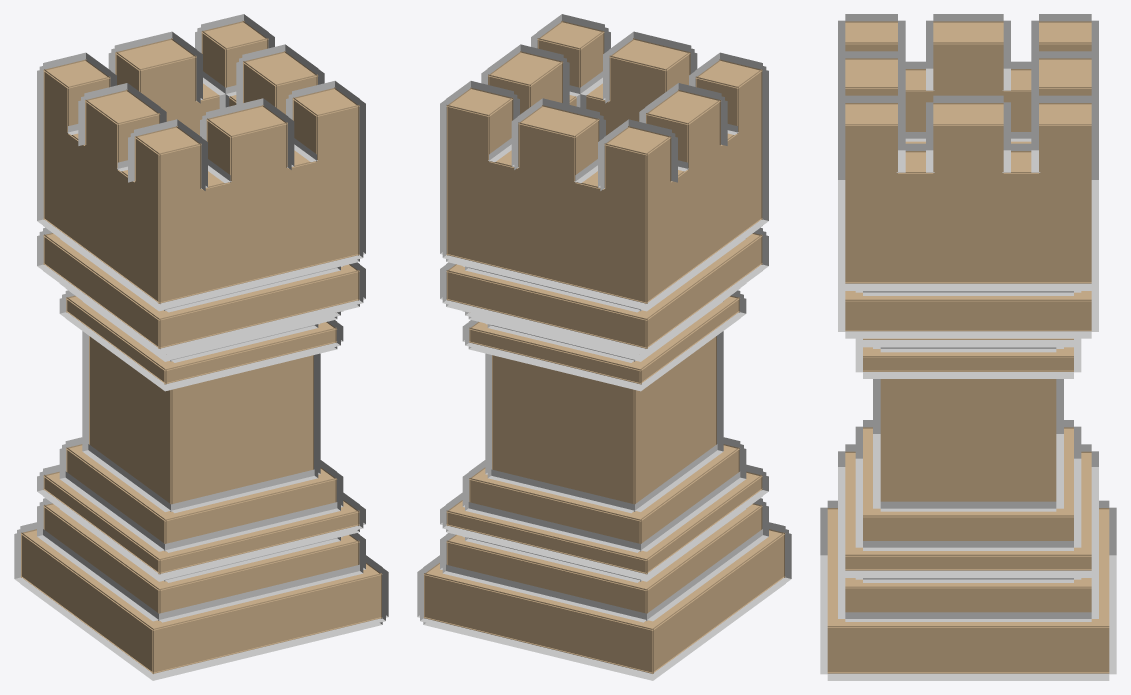
File: tan-rook.glb
3 renders of one model, left to right at view 1: azimuth 30°, elevation 25°; view 2: azimuth 150°, elevation 25°; view 3: azimuth 270°, elevation 25°, orthographic. The views are drawn at different scales.
Parts seen in each view (by area): view 1: chess-rock-tan_model; view 2: chess-rock-tan_model; view 3: chess-rock-tan_model.
Boxes of the visible parts, x1=… form: chess-rock-tan_model: x1=14, y1=14, x2=388, y2=680; chess-rock-tan_model: x1=417, y1=14, x2=791, y2=680; chess-rock-tan_model: x1=820, y1=14, x2=1116, y2=680.
Bounding box in the file's own units: 1.68 × 3.48 × 1.68.
Materials: 2 (1 with a texture image).
